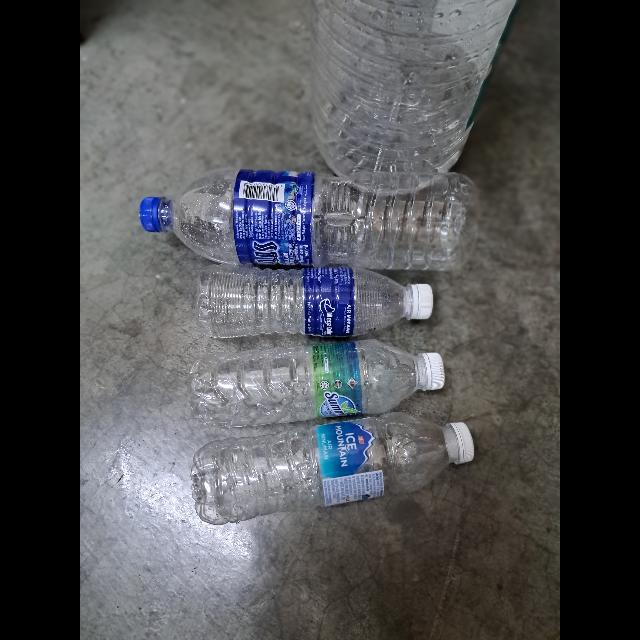garrafa plástica: (310, 1, 522, 196), (161, 168, 479, 272), (191, 410, 461, 526), (189, 338, 425, 426), (195, 264, 411, 338)
tampa plástica: (445, 423, 475, 465), (420, 352, 444, 392), (140, 196, 164, 232), (412, 283, 434, 319)
